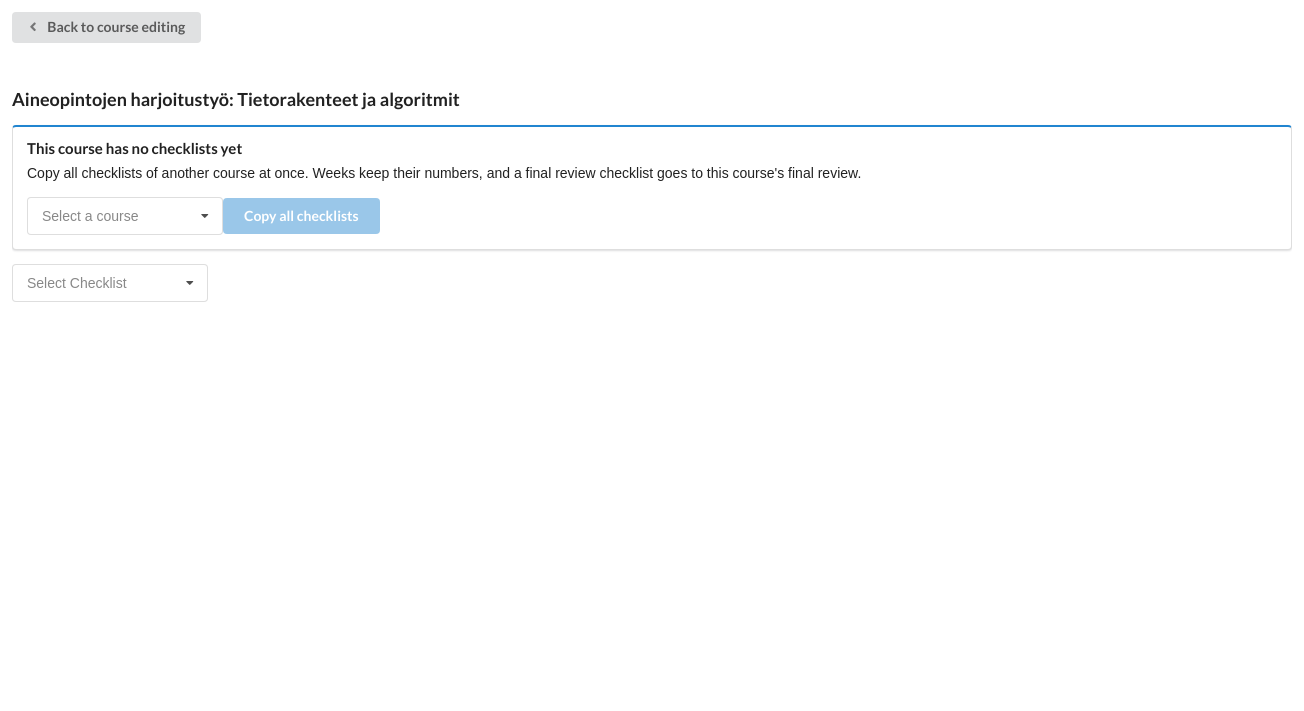
Test case: <CreateChecklist /> component › the copy form › says so when no other week of this course has a checklist
Click the list with id "weekDropdown". click: (110, 283)
box: 12,264 -> 208,302
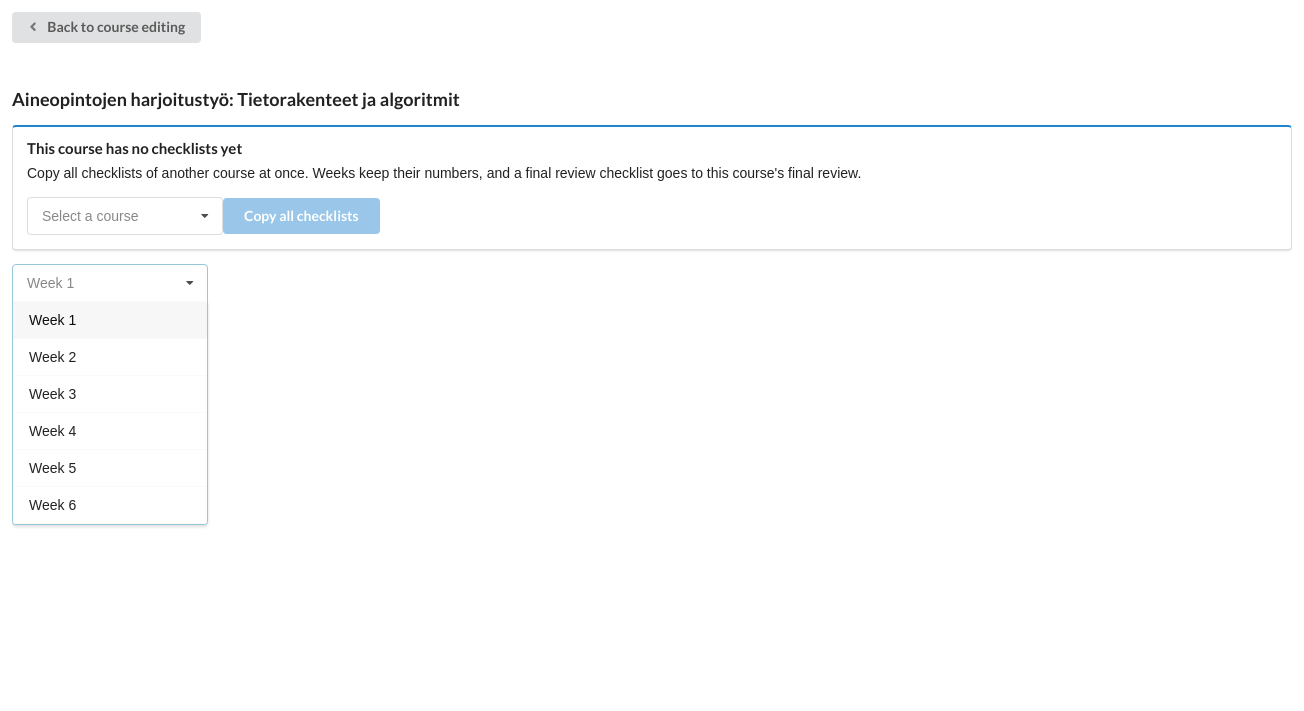
Click the option "Week 6". click: (110, 504)
box: 13,486 -> 207,523
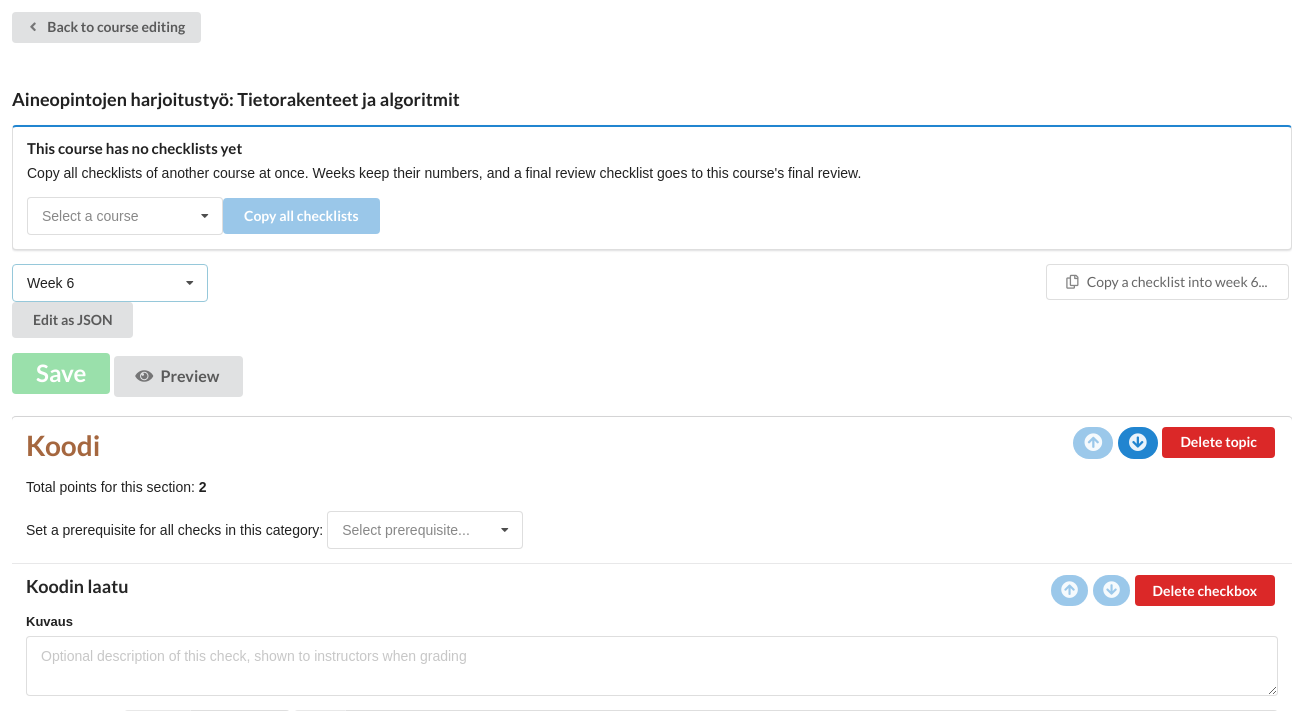
Click the button with class "copyFormToggle". click: (1167, 282)
box: 1046,264 -> 1288,300
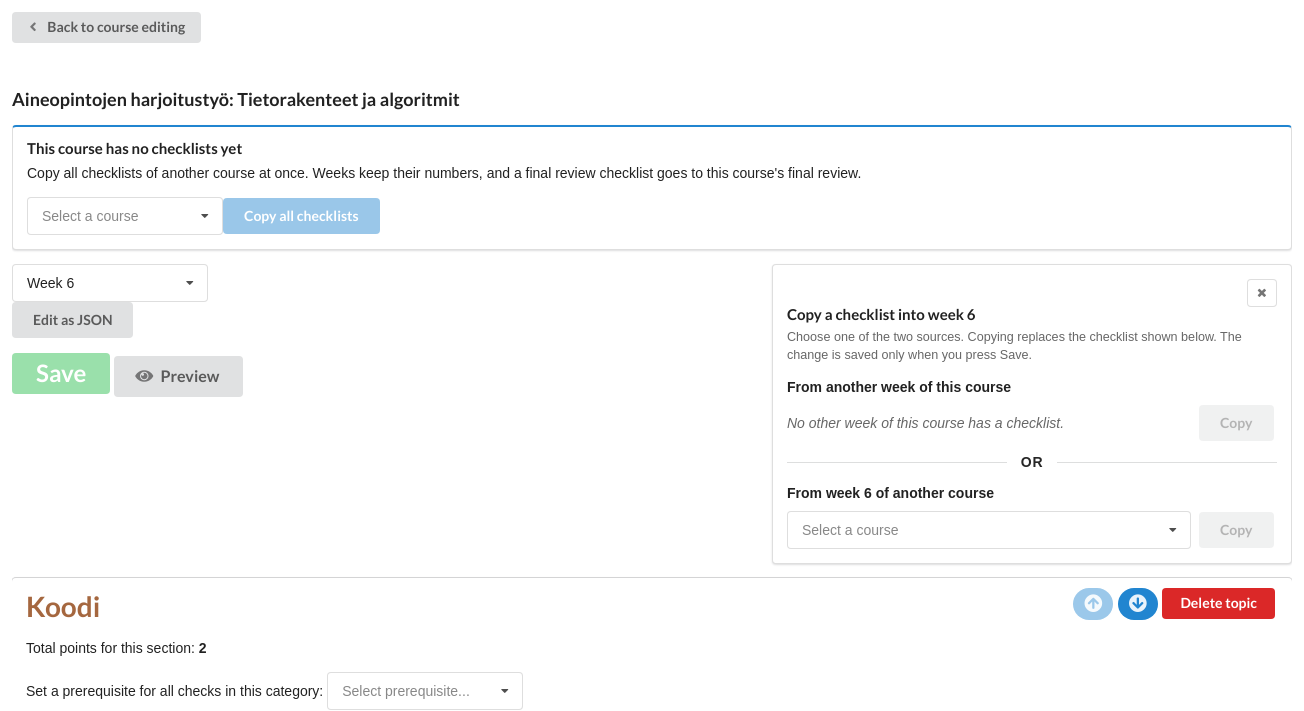
Expected: the text with class "noWeekToCopy" reads "No other week of this course has a checklist.", 787,415 -> 1064,431
